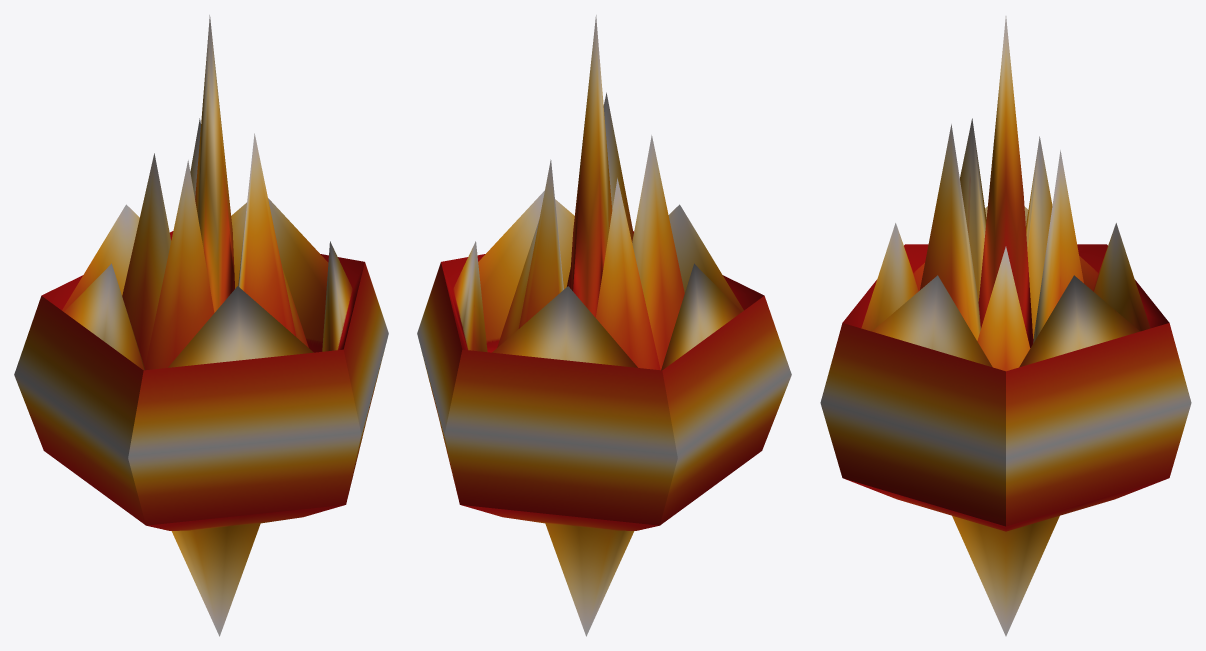
Rendered from FireFBX.fbx.
3 views of the same model, side by side, from view 1: azimuth 30°, elevation 25°; view 2: azimuth 150°, elevation 25°; view 3: azimuth 270°, elevation 25° (orthographic).
Visible parts, largest first — view 1: pCylinder1; view 2: pCylinder1; view 3: pCylinder1.
Boxes of the visible parts, x1,y1,x2,y2 form: pCylinder1: (14,15,388,636); pCylinder1: (417,15,791,636); pCylinder1: (820,16,1191,636).
Size of the model in its own units: 39.14 by 73.62 by 40.04.
